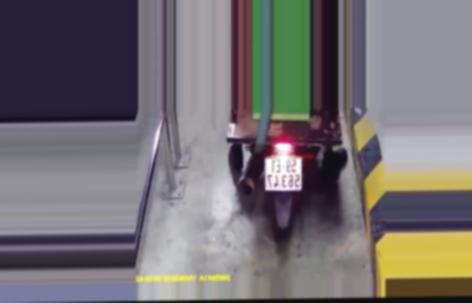License_Plate: (264, 152, 305, 194)
